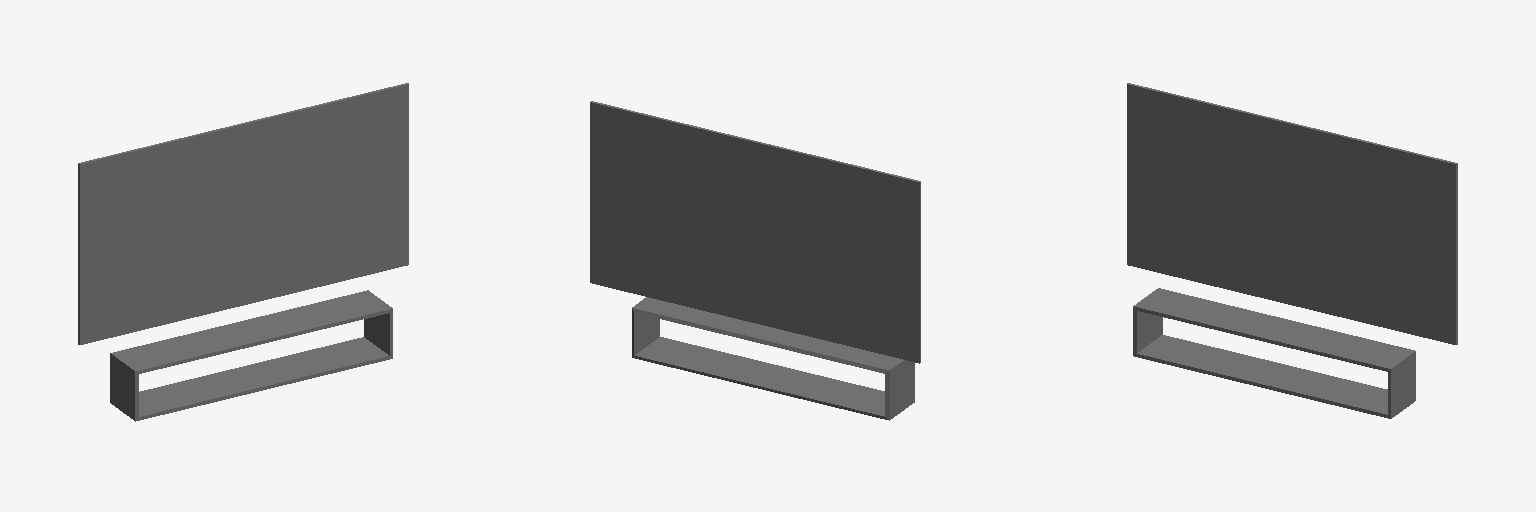
The picture shows the model from 3 angles: view 1: azimuth 30°, elevation 25°; view 2: azimuth 150°, elevation 25°; view 3: azimuth 330°, elevation 25°; orthographic projection.
Parts seen in each view (by area): view 1: screen, tv_wall; view 2: tv_wall; view 3: screen, tv_wall.
Part boxes in pixels (left/top/right/bottom): screen: left=85, top=91, right=403, bottom=338; tv_wall: left=78, top=83, right=408, bottom=421; tv_wall: left=590, top=101, right=920, bottom=420; screen: left=1132, top=91, right=1450, bottom=338; tv_wall: left=1127, top=83, right=1457, bottom=418.
Bounding box in the file's own units: 2.37 × 1.69 × 0.3269.